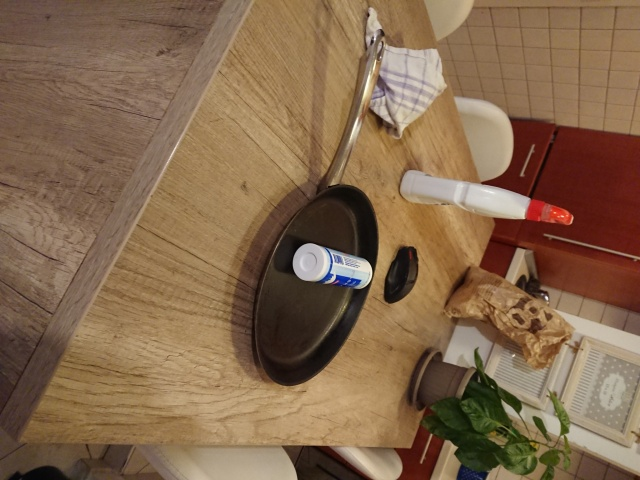Solana Pag Fine Sea Salt 250g: (289, 240, 375, 292)
